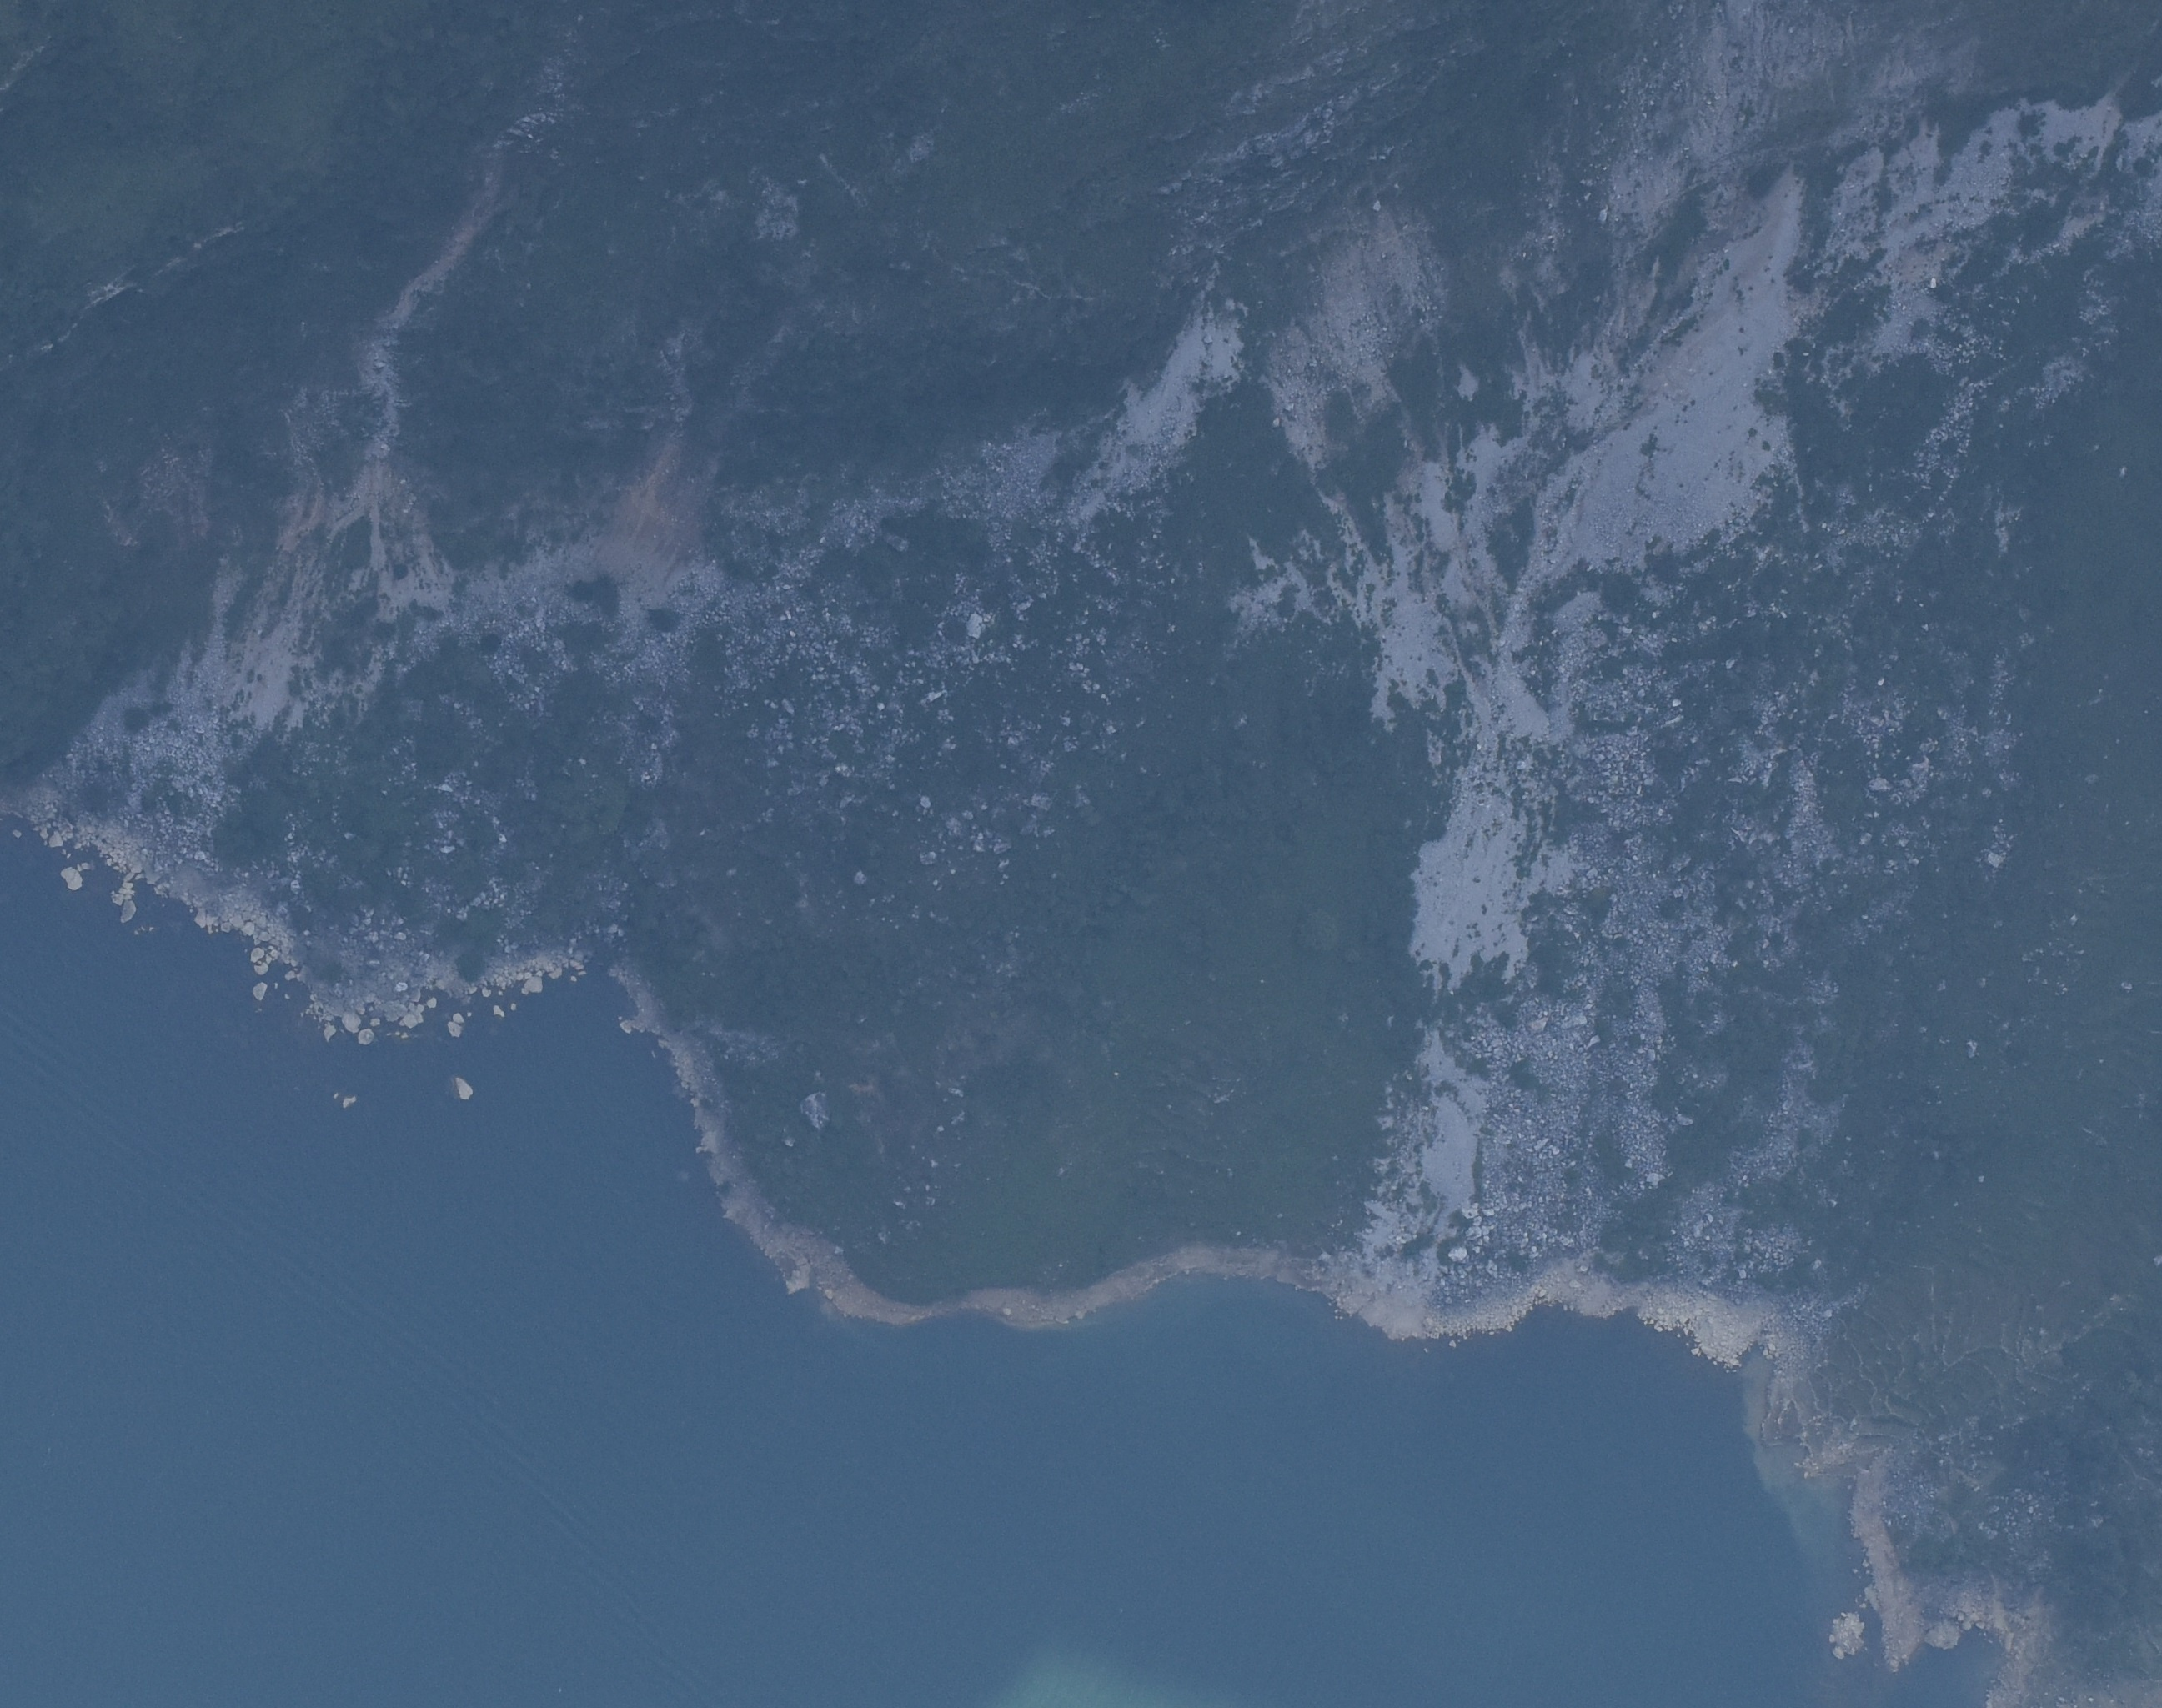landslide: (1341, 53, 1816, 1354), (26, 443, 464, 891), (891, 298, 1252, 709), (479, 474, 825, 774), (1272, 223, 1467, 453)
